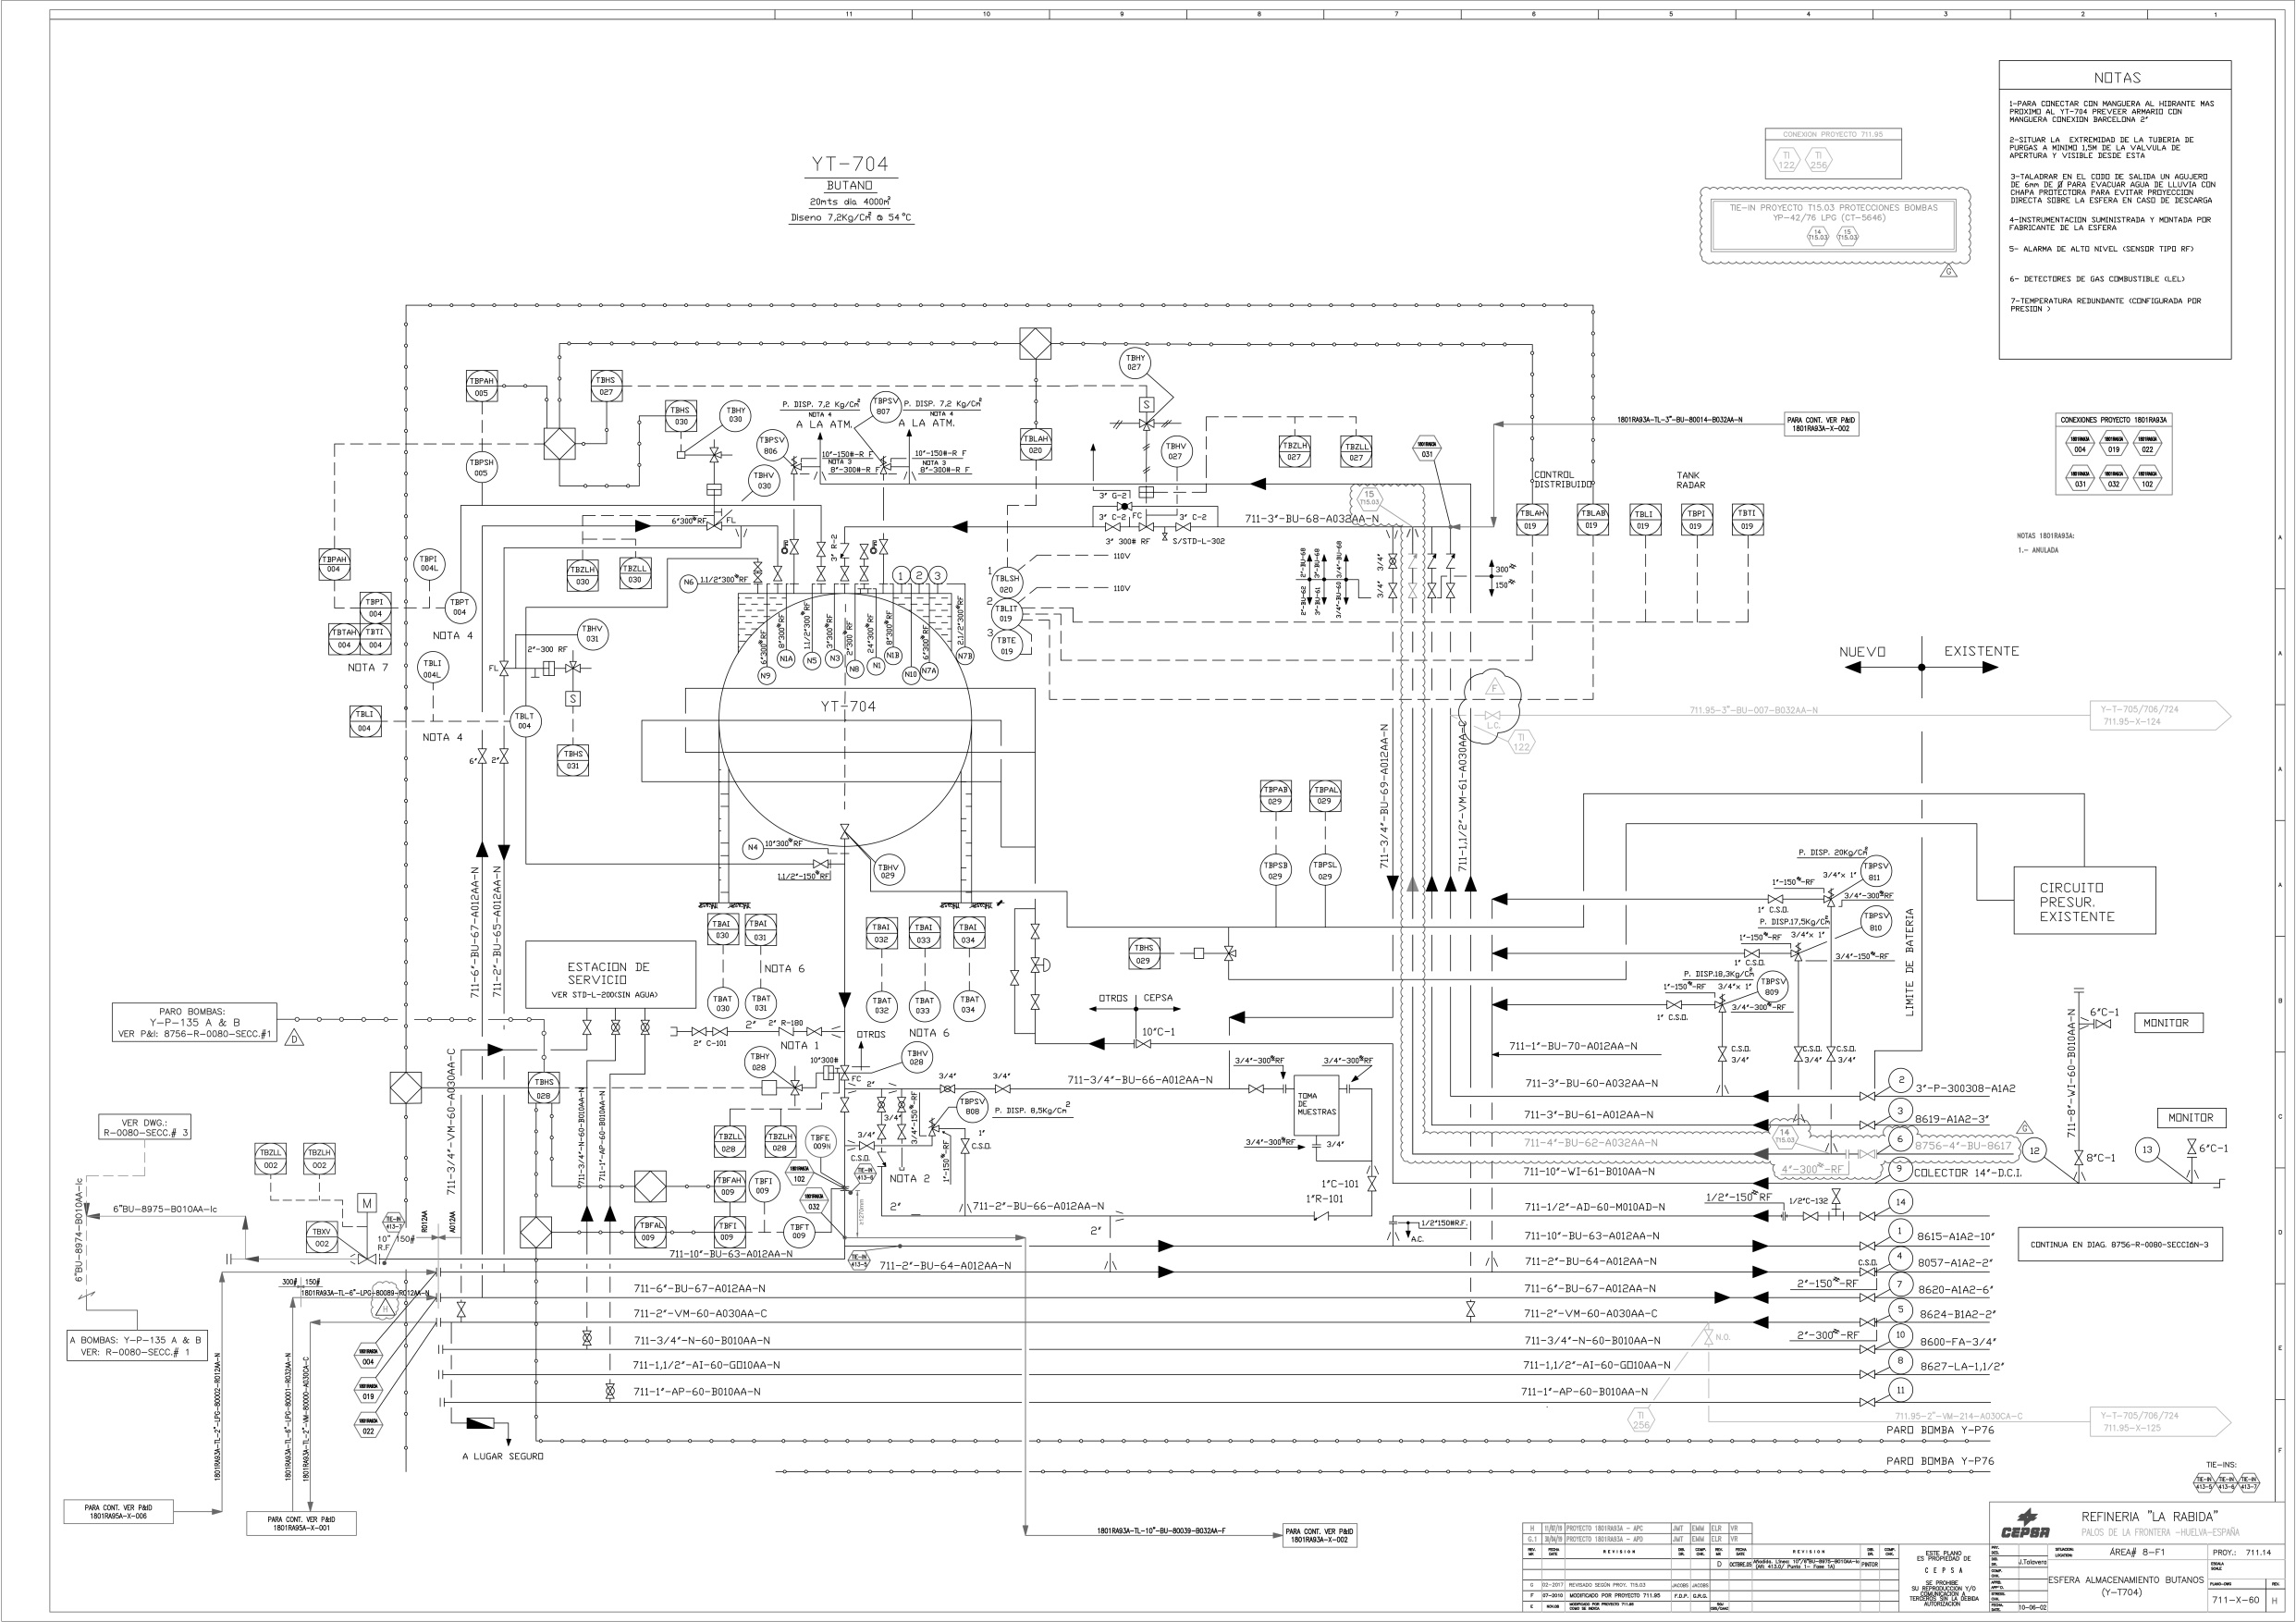Inlinel Instrument: (463, 448, 502, 484), (869, 388, 906, 425), (746, 462, 783, 499), (411, 546, 448, 583), (706, 985, 743, 1022), (865, 988, 902, 1025), (955, 1088, 992, 1125), (781, 1213, 818, 1250), (900, 1039, 937, 1076), (1116, 344, 1153, 381), (871, 851, 908, 888), (442, 590, 479, 627), (1755, 967, 1792, 1004), (718, 398, 755, 434), (574, 616, 611, 651), (414, 650, 451, 685), (908, 988, 944, 1023), (951, 988, 988, 1023), (1259, 851, 1295, 886), (1308, 851, 1345, 886), (990, 563, 1027, 599), (1857, 904, 1894, 939), (1859, 853, 1896, 888)
Panel Instrument: (906, 913, 944, 951), (951, 913, 990, 951), (463, 367, 502, 404), (588, 367, 627, 404), (316, 546, 355, 583), (563, 556, 602, 593), (1018, 425, 1057, 462), (702, 909, 741, 946), (862, 915, 900, 951), (711, 1123, 750, 1160), (251, 1141, 290, 1178), (711, 1167, 750, 1204), (632, 1215, 671, 1252), (1306, 776, 1345, 813), (1276, 434, 1315, 470), (1513, 502, 1552, 539), (1575, 502, 1613, 539), (1678, 500, 1717, 537), (1125, 934, 1164, 971), (348, 702, 384, 739), (555, 741, 592, 778), (616, 555, 653, 592), (662, 397, 699, 434), (325, 618, 362, 655), (764, 1123, 800, 1160), (302, 1139, 339, 1176), (304, 1218, 341, 1255), (711, 1213, 748, 1250), (1257, 776, 1294, 813), (1338, 434, 1374, 470), (1627, 502, 1664, 539), (1729, 500, 1766, 537)
